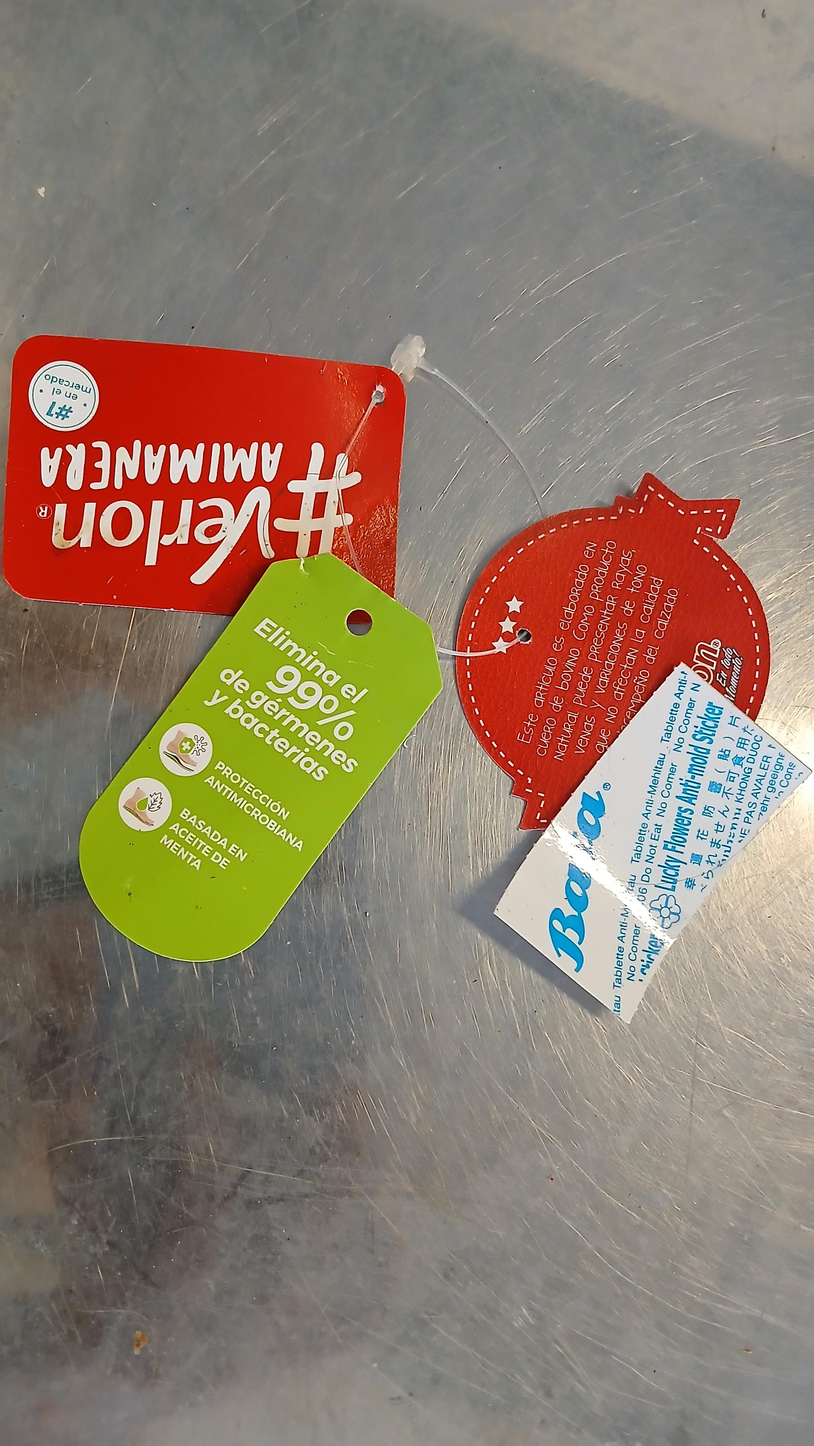Papel: (0, 337, 809, 1022)
